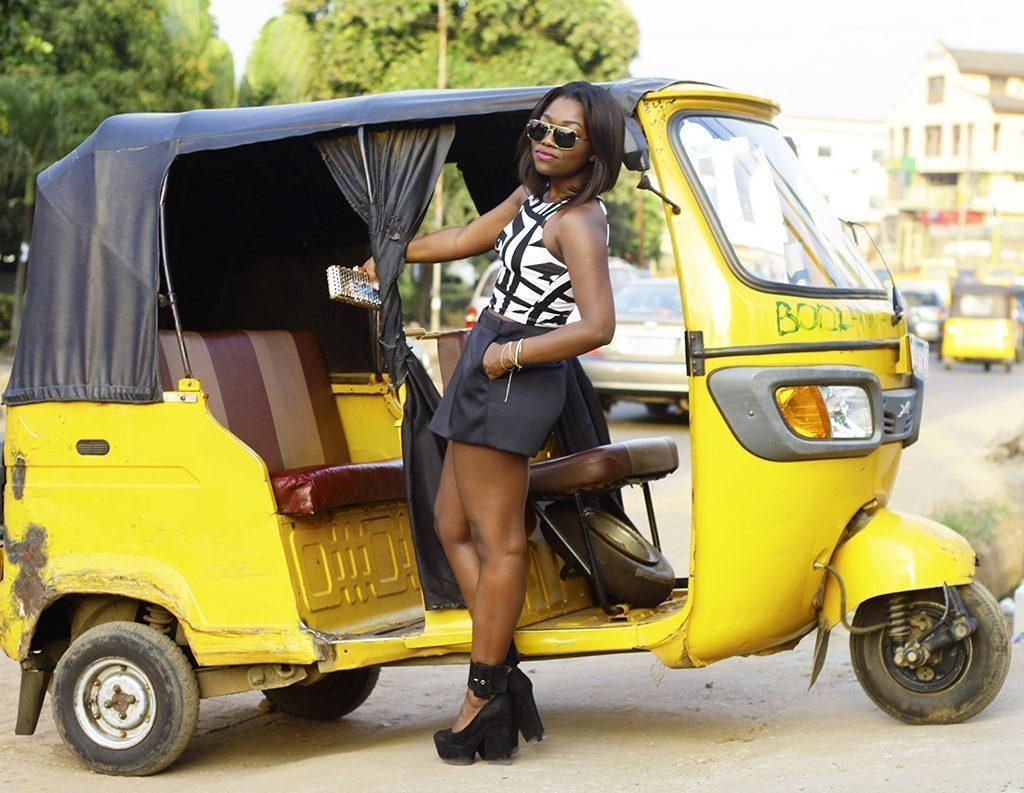keke: (6, 83, 964, 783)
